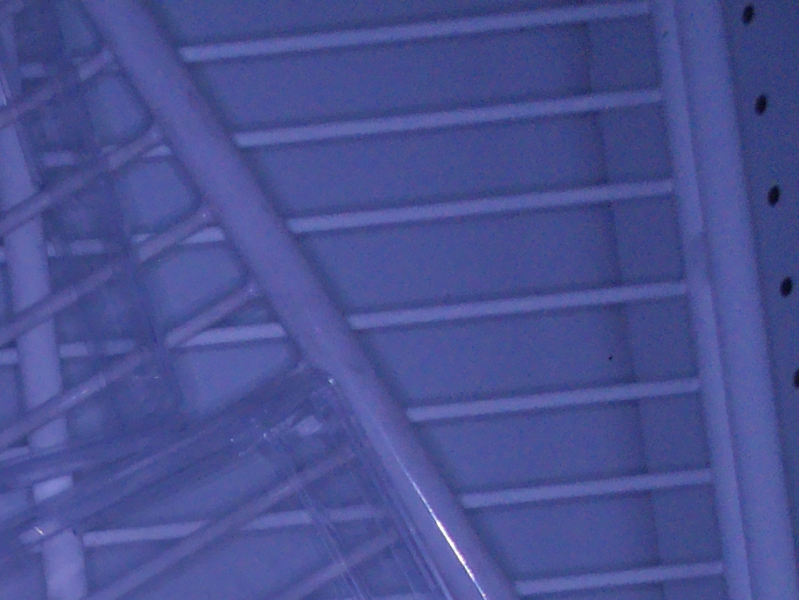plate: (1, 366, 448, 600), (1, 1, 198, 484)
